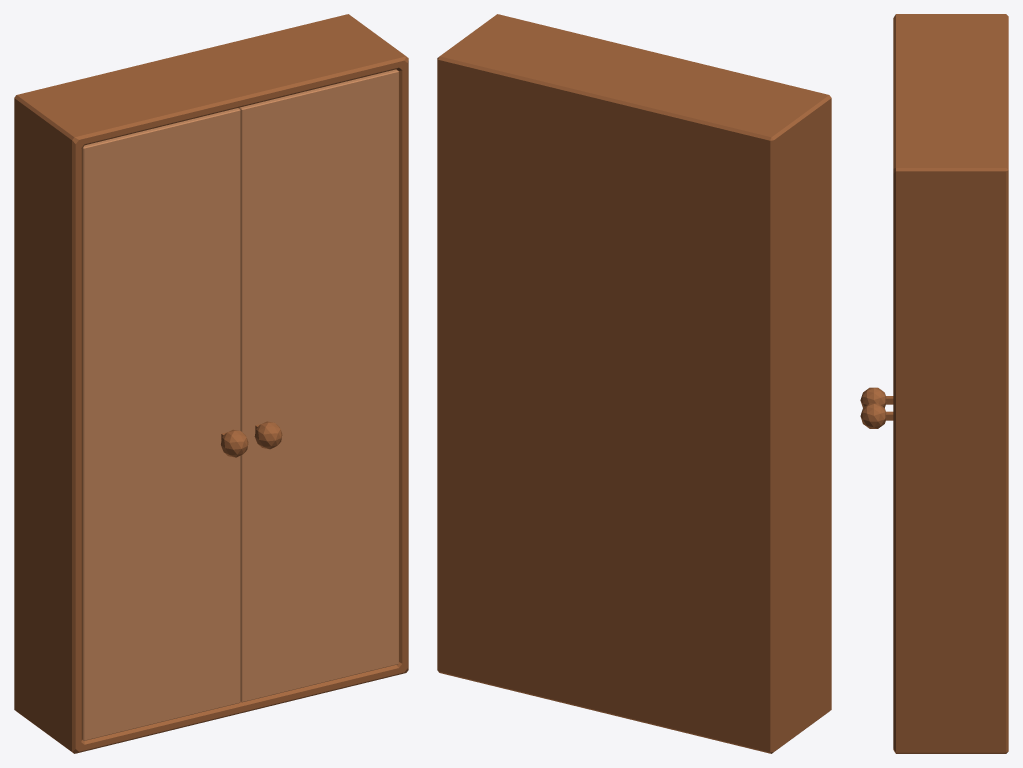
Rendered from Shelf B.glb.
The picture shows the model from 3 angles, left to right: view 1: azimuth 30°, elevation 25°; view 2: azimuth 150°, elevation 25°; view 3: azimuth 270°, elevation 25°; orthographic projection. The views are drawn at different scales.
Parts seen in each view (by area): view 1: Shelf B; view 2: Shelf B; view 3: Shelf B.
Boxes of the visible parts, x1,y1,x2,y2 form: Shelf B: (14,14,408,753); Shelf B: (437,14,831,753); Shelf B: (860,14,1008,753).
Size of the model in its own units: 0.553 by 0.9681 by 0.2218.
